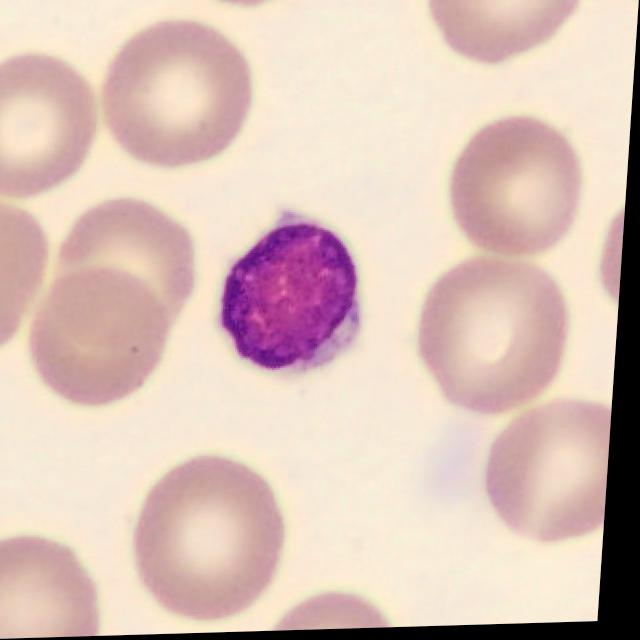Linfocito: (228, 214, 364, 370)
